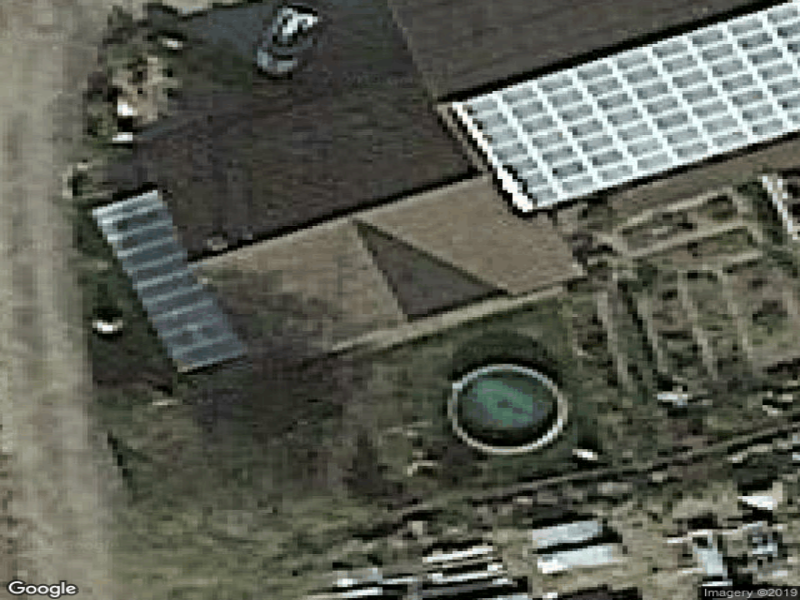pv: (460, 1, 800, 205)
